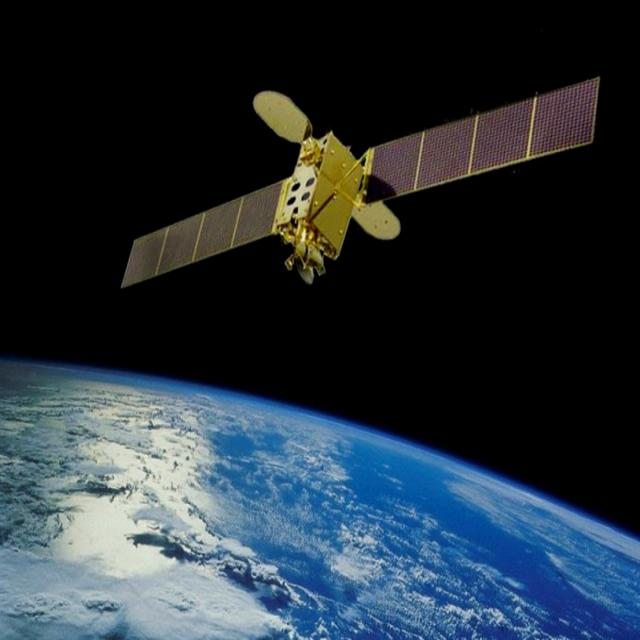satellite: (122, 79, 606, 298)
